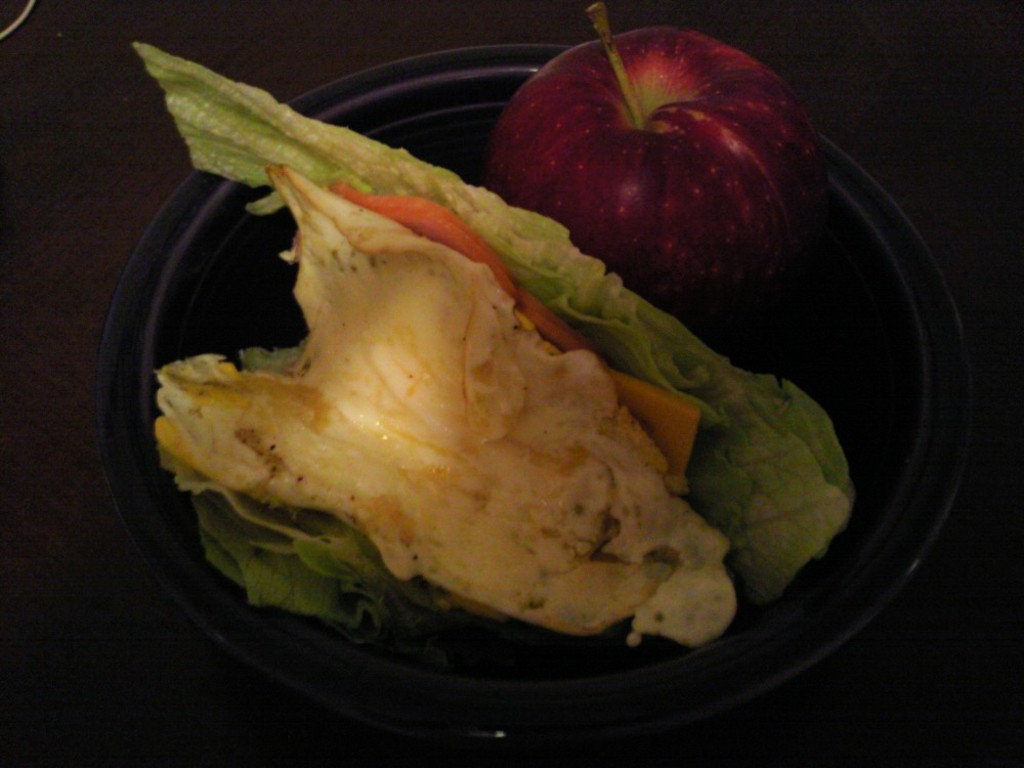Apple: (489, 33, 800, 302)
